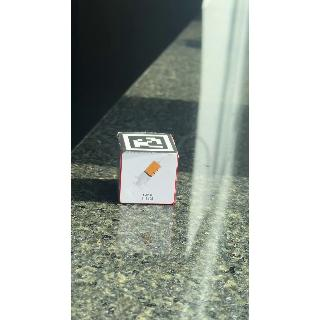Syringe: (121, 153, 181, 208)
